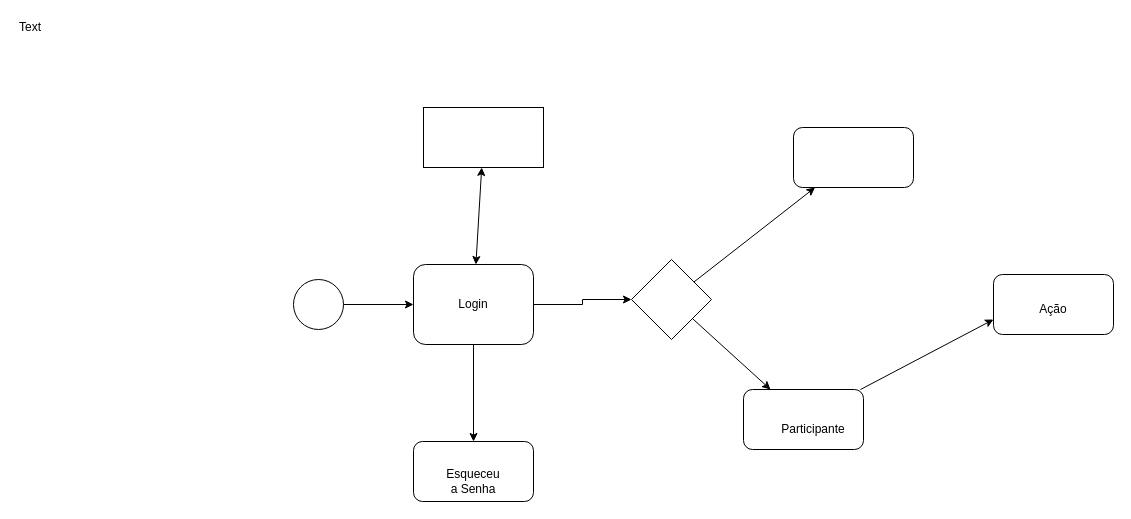
Some shapes in this 1131 by 519 pixel diagram are drawn without their labels. The box of each missing label's shape, as (x1, y1, x2, y2) in pixels:
Administrador: (792, 126, 914, 188)
Criar Conta: (422, 106, 544, 168)
